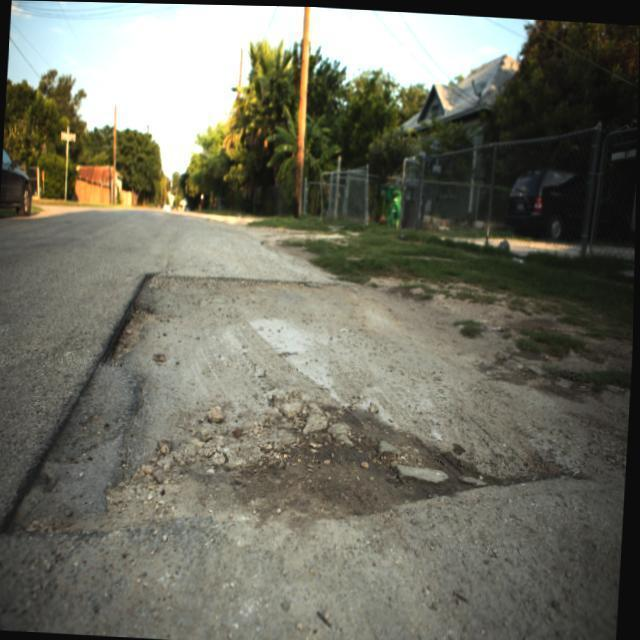Pothole: (13, 264, 565, 537)
